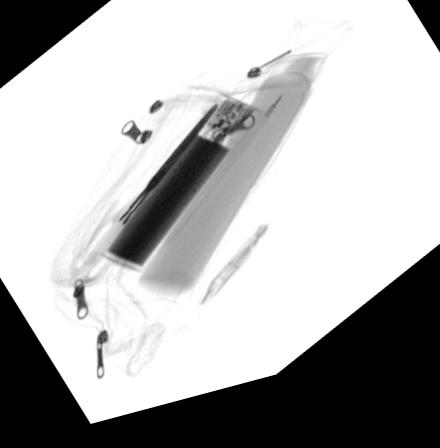Powerbank: (98, 102, 261, 281)
Scissors: (62, 111, 218, 294)
